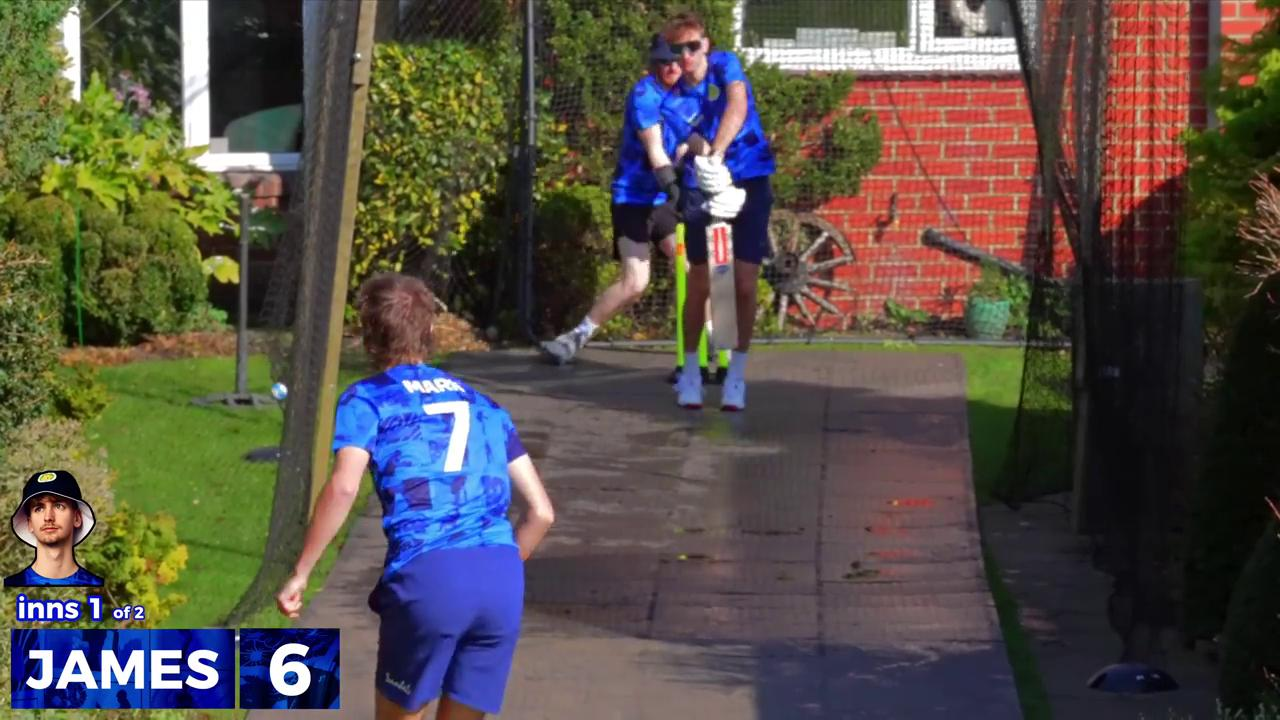ball: (259, 376, 298, 406)
